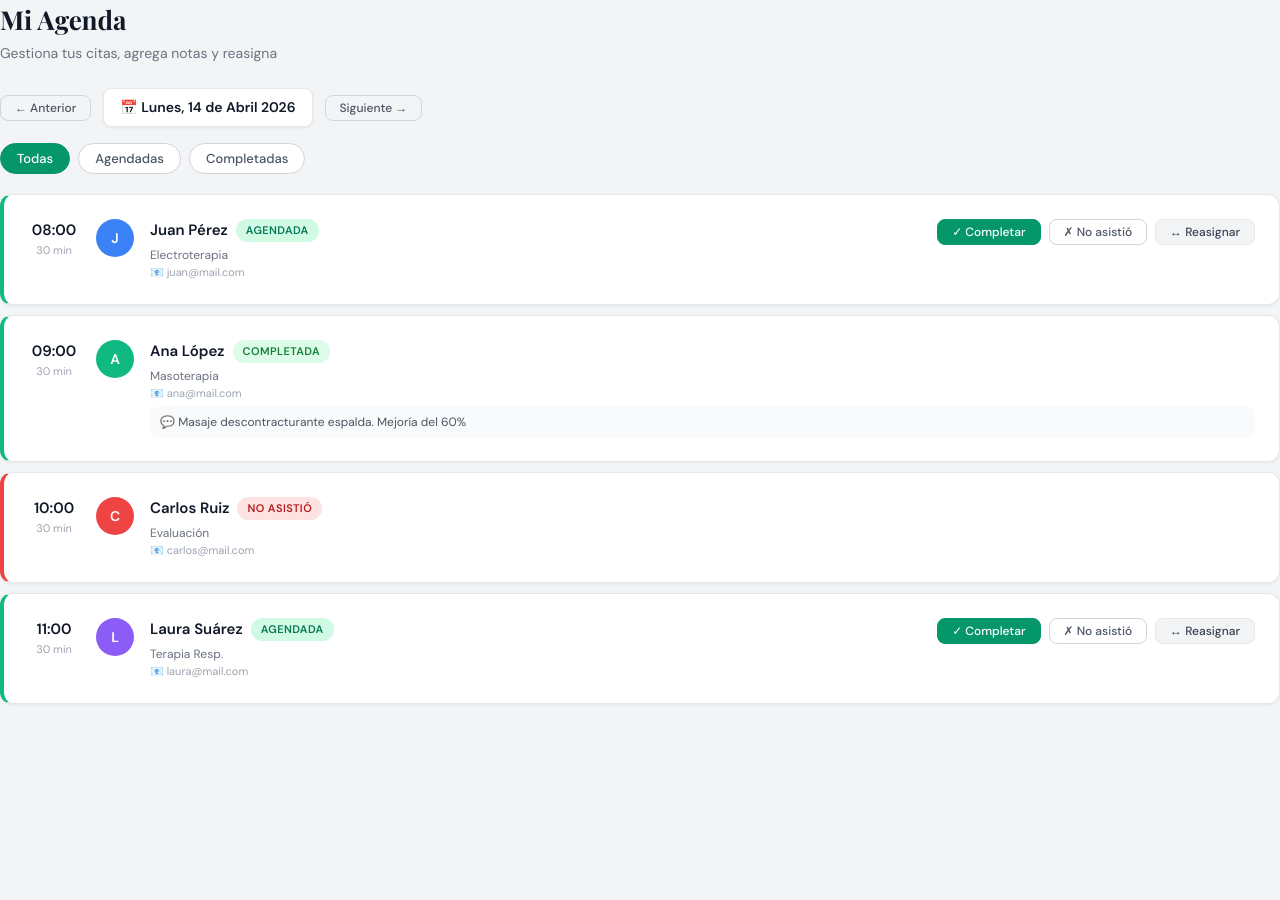
it: <MiAgenda /> › el modal se cierra al hacer clic en Cancelar
What coordinates should you click on to do the following:
click the button "↔ Reasignar" in the row of "Juan Pérez"
I would click on:
 (1205, 232)
Its box is 1155,219 -> 1255,245.
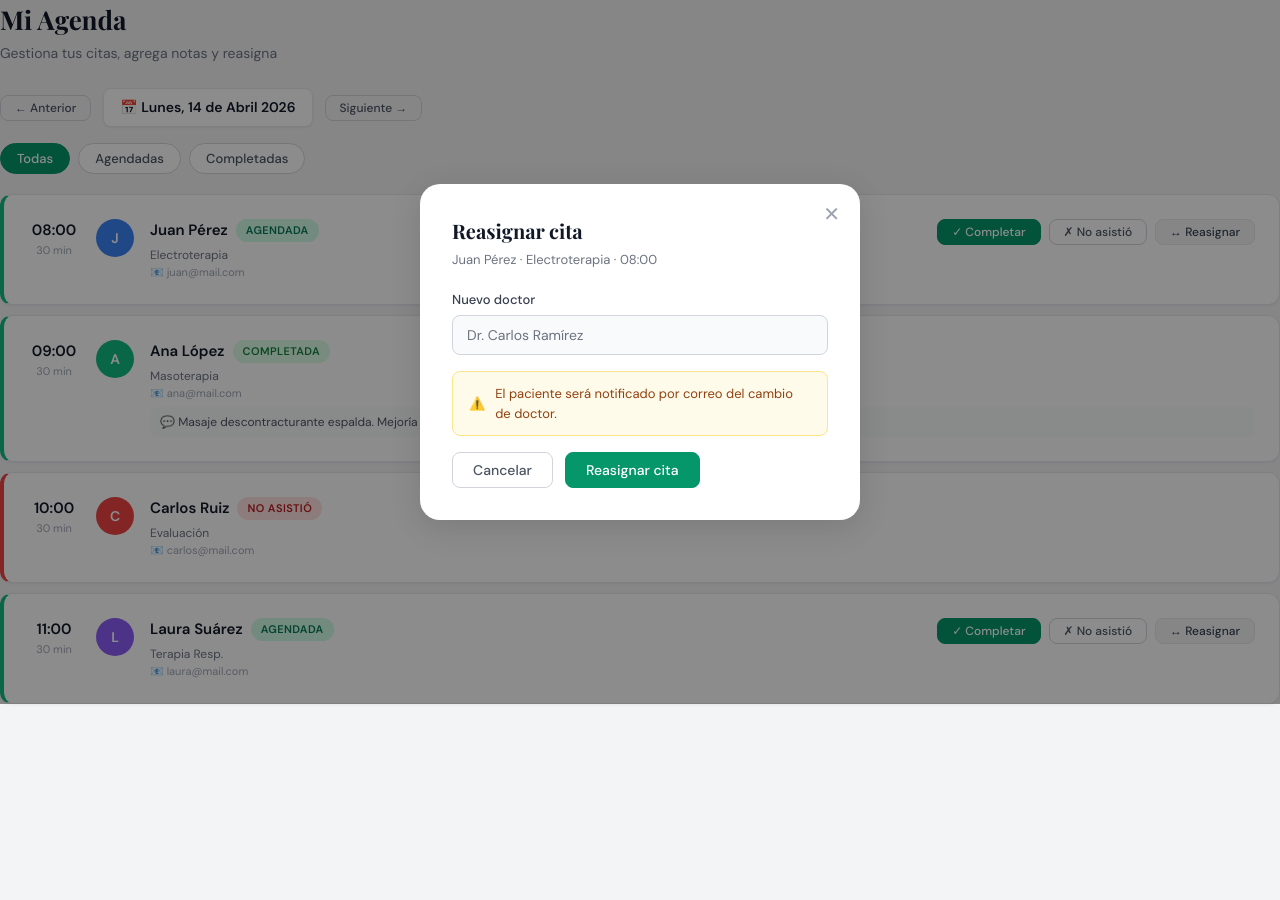
What coordinates should you click on to do the following:
click the button "Cancelar"
I would click on:
 (502, 470)
Its box is 452,452 -> 553,488.
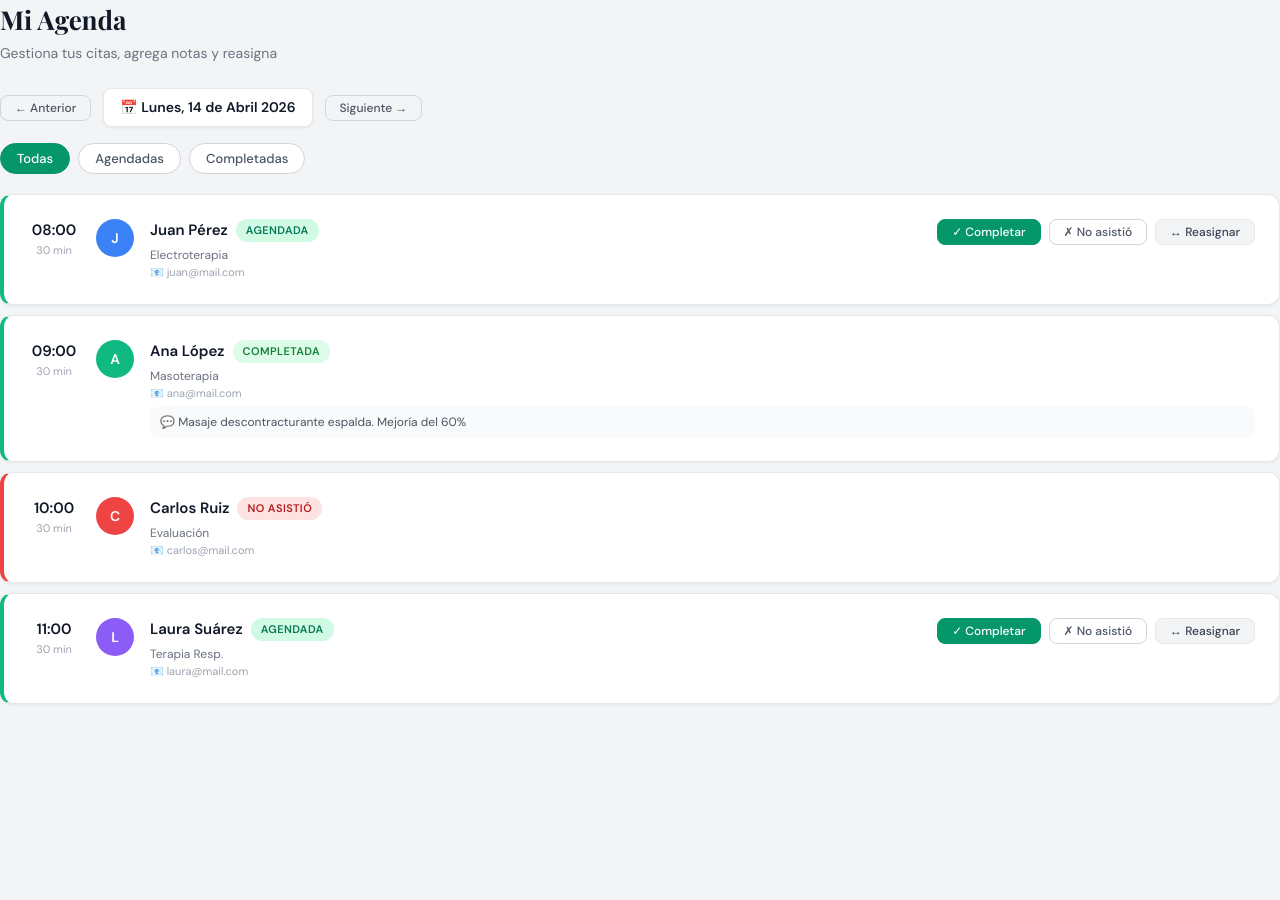
Expected: the text "El paciente será notificado" is gone
